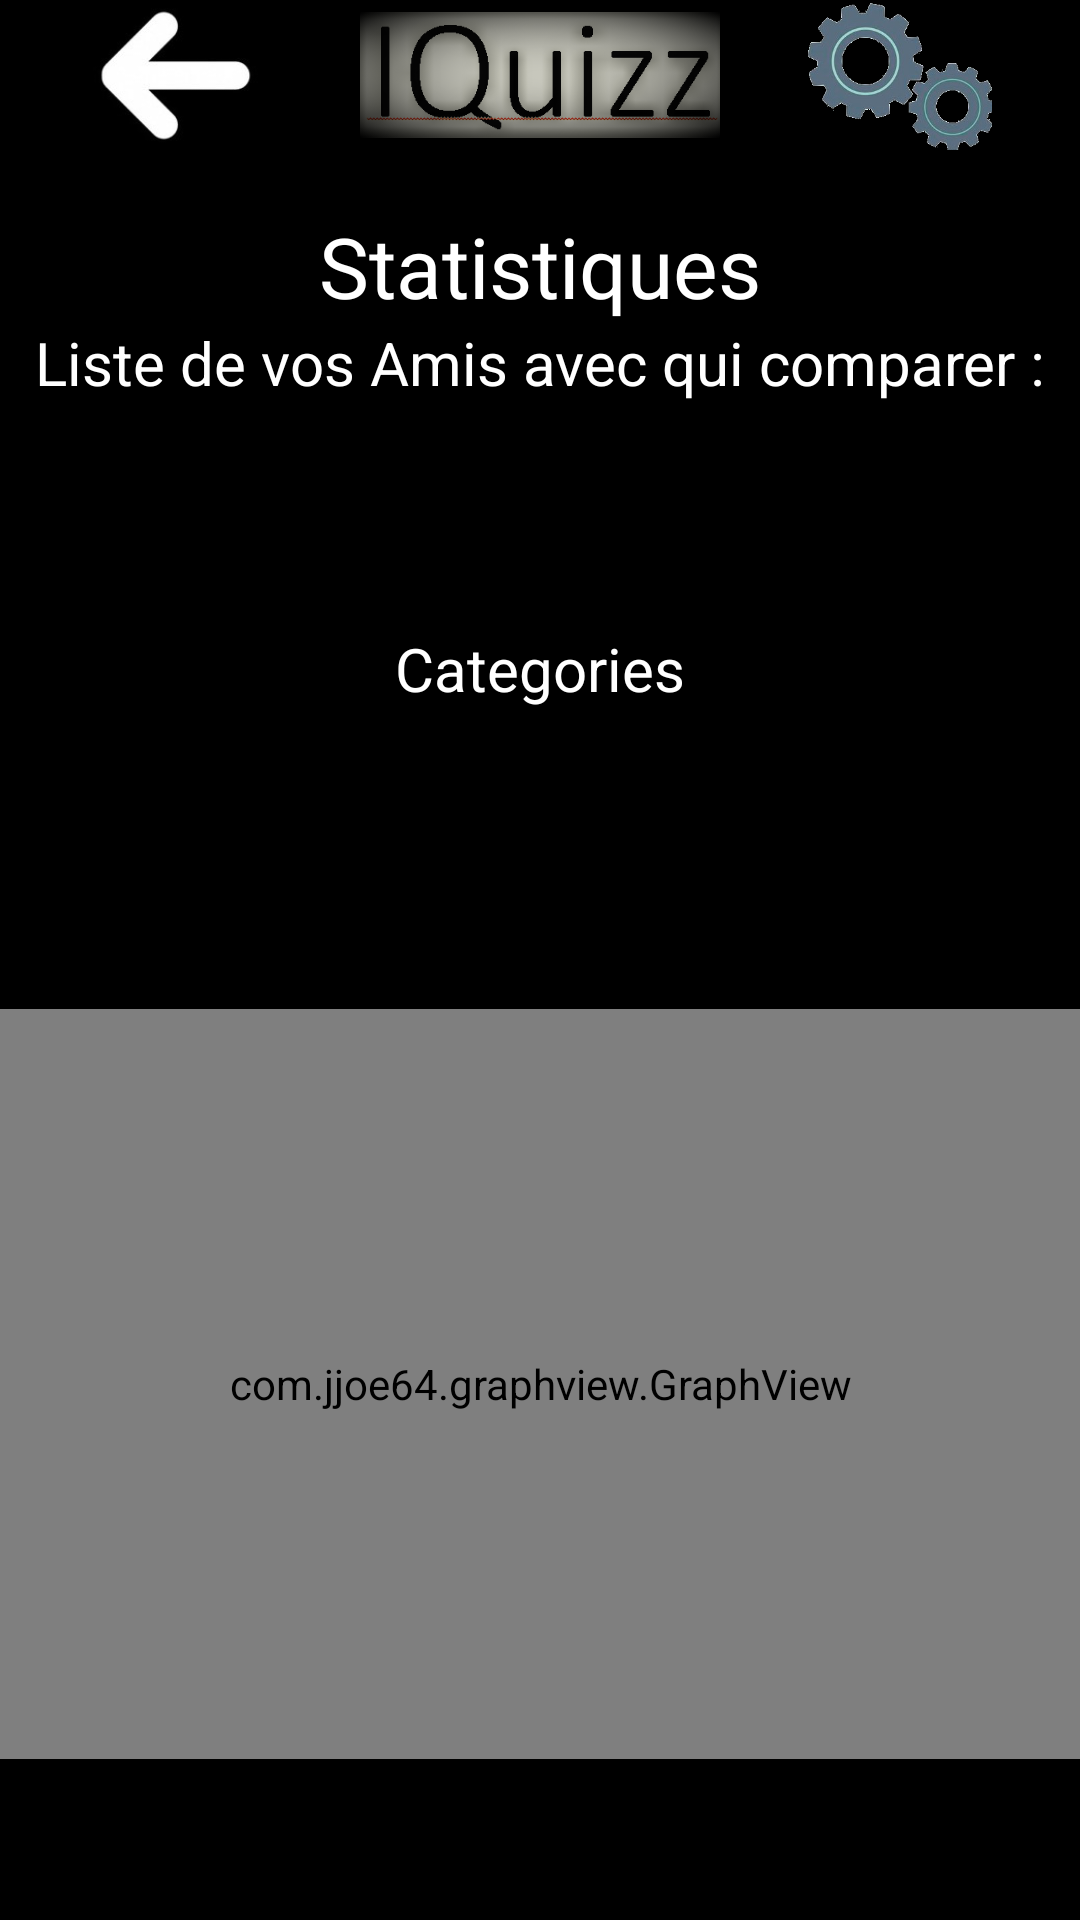

Screen size 1080 x 1920. Icon name, then its box in pixels as (x1, y1, x2, y2):
engrenages: (808, 3, 992, 150)
fleche retour: (101, 11, 251, 140)
